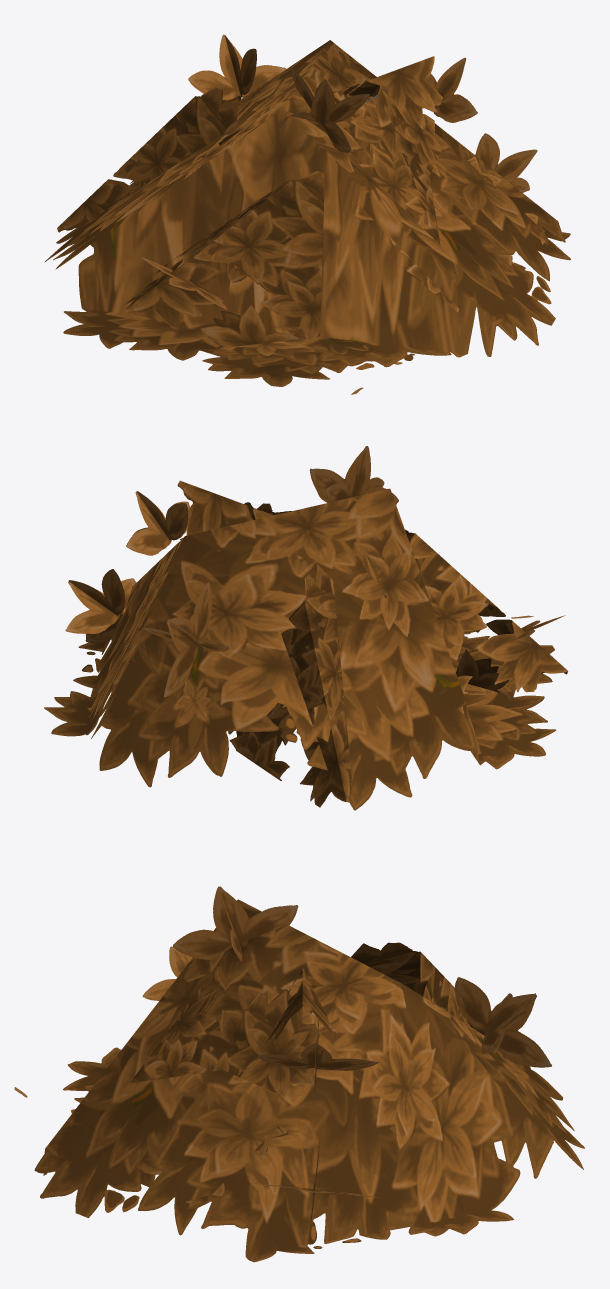
File: 2_Arbusto_Cafe_LOD_2.fbx
3 views of the same model, one above another, from view 1: azimuth 30°, elevation 25°; view 2: azimuth 150°, elevation 25°; view 3: azimuth 270°, elevation 25° (orthographic). The views are drawn at different scales.
Parts seen in each view (by area): view 1: 2_Arbusto_Cafe_LOD_2; view 2: 2_Arbusto_Cafe_LOD_2; view 3: 2_Arbusto_Cafe_LOD_2.
Part boxes in pixels (left/top/right/bottom): 2_Arbusto_Cafe_LOD_2: left=45, top=34, right=570, bottom=394; 2_Arbusto_Cafe_LOD_2: left=44, top=446, right=567, bottom=810; 2_Arbusto_Cafe_LOD_2: left=14, top=886, right=584, bottom=1262.
Bounding box in the file's own units: 354 × 199 × 341.
